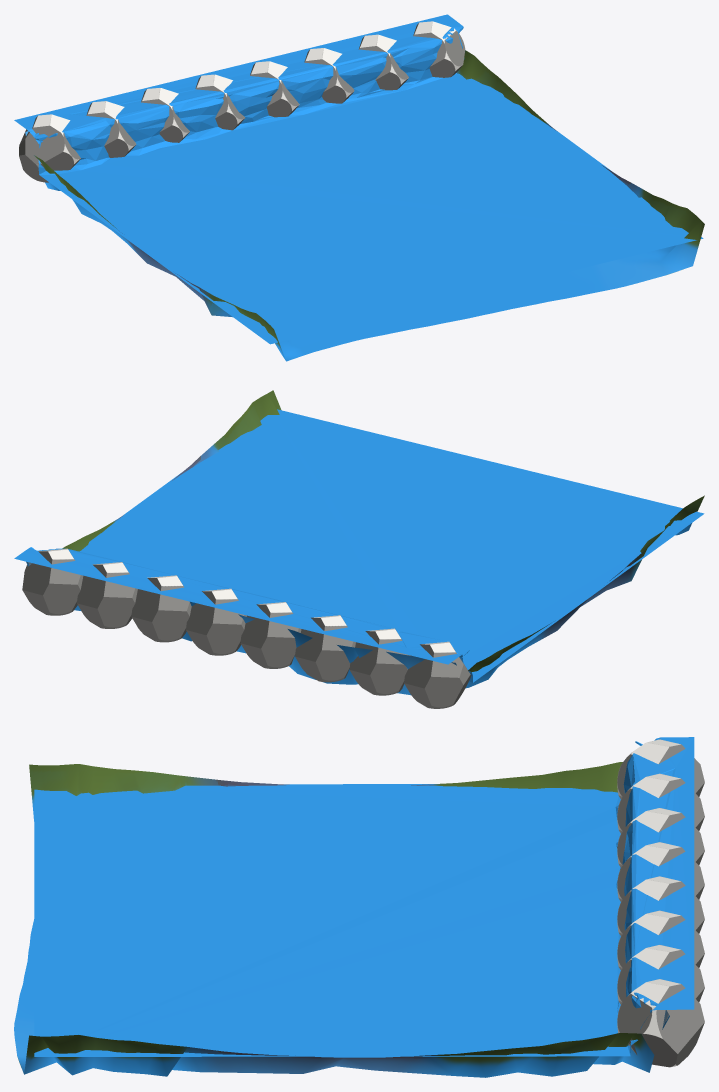
File: trou_eau.fbx
3 views of the same model, one above another, from view 1: azimuth 30°, elevation 25°; view 2: azimuth 150°, elevation 25°; view 3: azimuth 270°, elevation 25° (orthographic). The views are drawn at different scales.
Visible parts, largest first — view 1: eau, fond_eau, rocher, rocher.007, rocher.001, rocher.004, rocher.006, rocher.005, rocher.003, rocher.002; view 2: eau, fond_eau, rocher, rocher.007, rocher.005, rocher.006, rocher.004, rocher.003, rocher.002, rocher.001; view 3: eau, fond_eau, rocher.007, rocher.006, rocher.001, rocher.004, rocher, rocher.003, rocher.005, rocher.002.
Boxes of the visible parts, bbox=[...] form: eau: bbox=[14, 14, 703, 344]; fond_eau: bbox=[25, 50, 704, 361]; rocher: bbox=[19, 114, 80, 182]; rocher.007: bbox=[413, 21, 465, 77]; rocher.001: bbox=[86, 101, 136, 157]; rocher.004: bbox=[250, 61, 299, 117]; rocher.006: bbox=[358, 34, 408, 90]; rocher.005: bbox=[304, 48, 354, 103]; rocher.003: bbox=[195, 74, 245, 130]; rocher.002: bbox=[141, 87, 189, 142]; eau: bbox=[14, 409, 704, 682]; fond_eau: bbox=[26, 390, 704, 695]; rocher: bbox=[404, 641, 471, 708]; rocher.007: bbox=[22, 548, 83, 615]; rocher.005: bbox=[131, 575, 191, 642]; rocher.006: bbox=[77, 562, 137, 628]; rocher.004: bbox=[186, 588, 246, 655]; rocher.003: bbox=[240, 602, 301, 668]; rocher.002: bbox=[295, 615, 355, 682]; rocher.001: bbox=[349, 628, 410, 695]; eau: bbox=[34, 737, 694, 1056]; fond_eau: bbox=[14, 762, 669, 1077]; rocher.007: bbox=[617, 979, 704, 1067]; rocher.006: bbox=[617, 944, 704, 1004]; rocher.001: bbox=[617, 773, 704, 833]; rocher.004: bbox=[617, 876, 704, 935]; rocher: bbox=[617, 739, 704, 798]; rocher.003: bbox=[617, 842, 704, 901]; rocher.005: bbox=[617, 910, 704, 969]; rocher.002: bbox=[617, 808, 704, 867].
Bounding box in the file's own units: 5114 × 707 × 5390.
3 materials, 3 textured.
